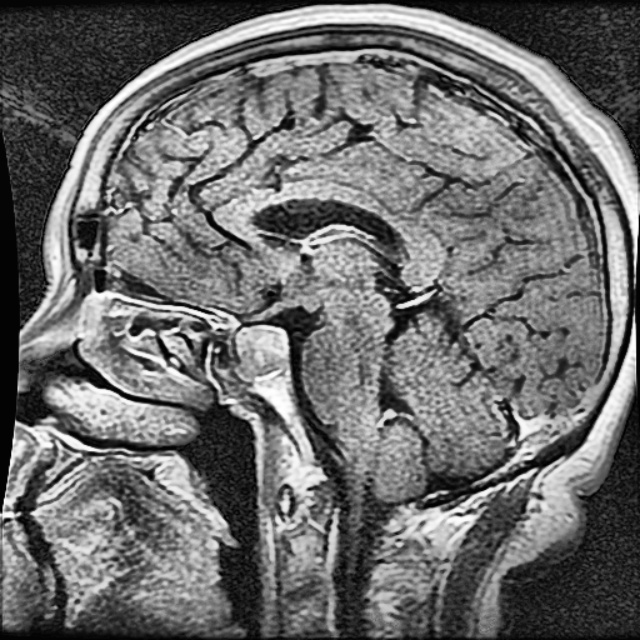Pituitary: (235, 322, 290, 379)
